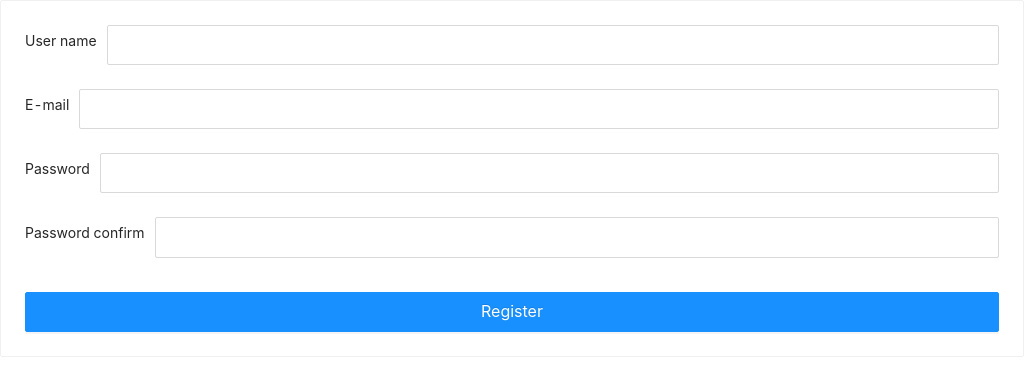
it: Register form › empty fields
What coordinates should you click on to do the following:
click the button "Register"
I would click on:
 (512, 312)
Its box is left=25, top=292, right=999, bottom=332.
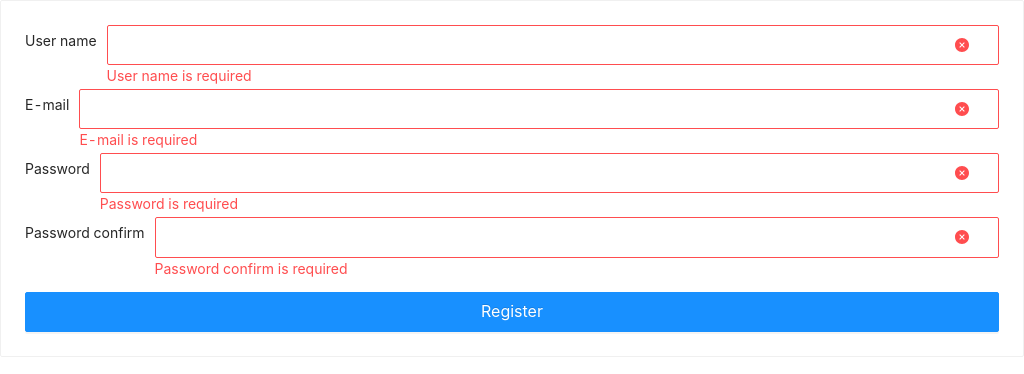
Expected: the message "User name is required" is shown, left=107, top=67, right=252, bottom=84
Expected: the message "E-mail is required" is shown, left=79, top=131, right=197, bottom=148
Expected: the message "Password is required" is shown, left=100, top=195, right=238, bottom=212
